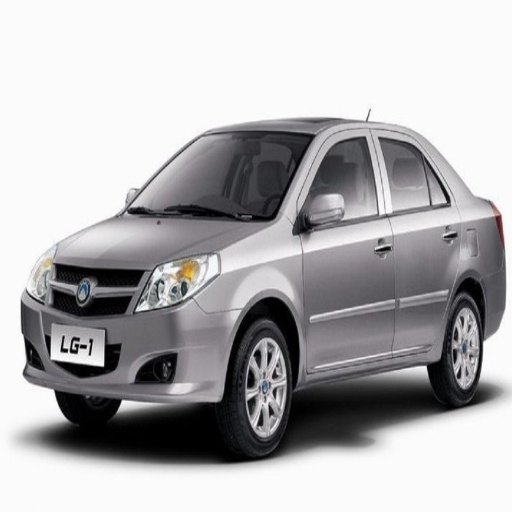front_bumper: (22, 257, 244, 406)
front_glass: (126, 131, 315, 219)
front_left_door: (299, 129, 393, 370)
